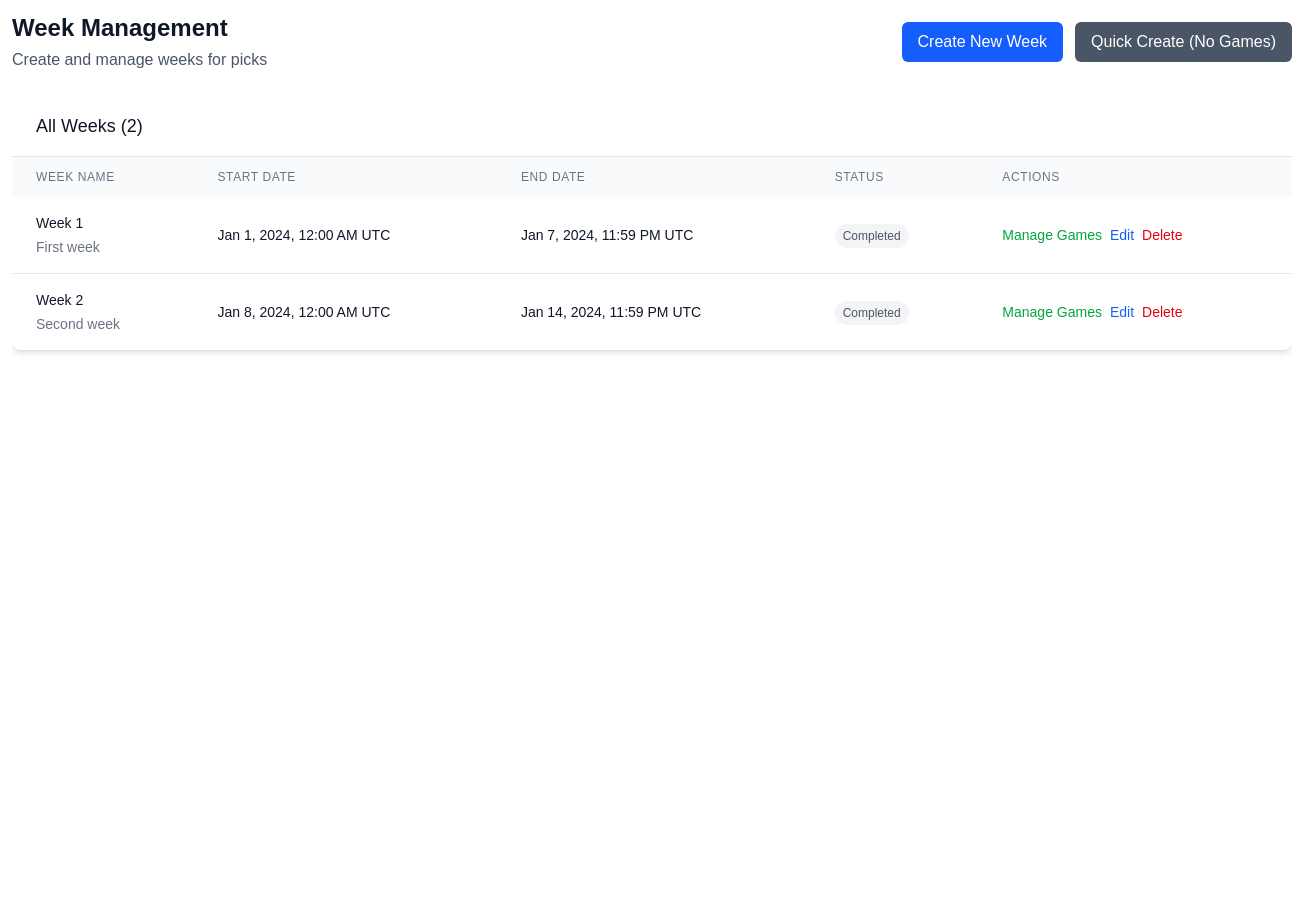
WeekManagement › should show create form when create button is clicked
Click the button "Quick Create (No Games)". click: coordinates (1184, 42)
box: [1075,22,1292,62]
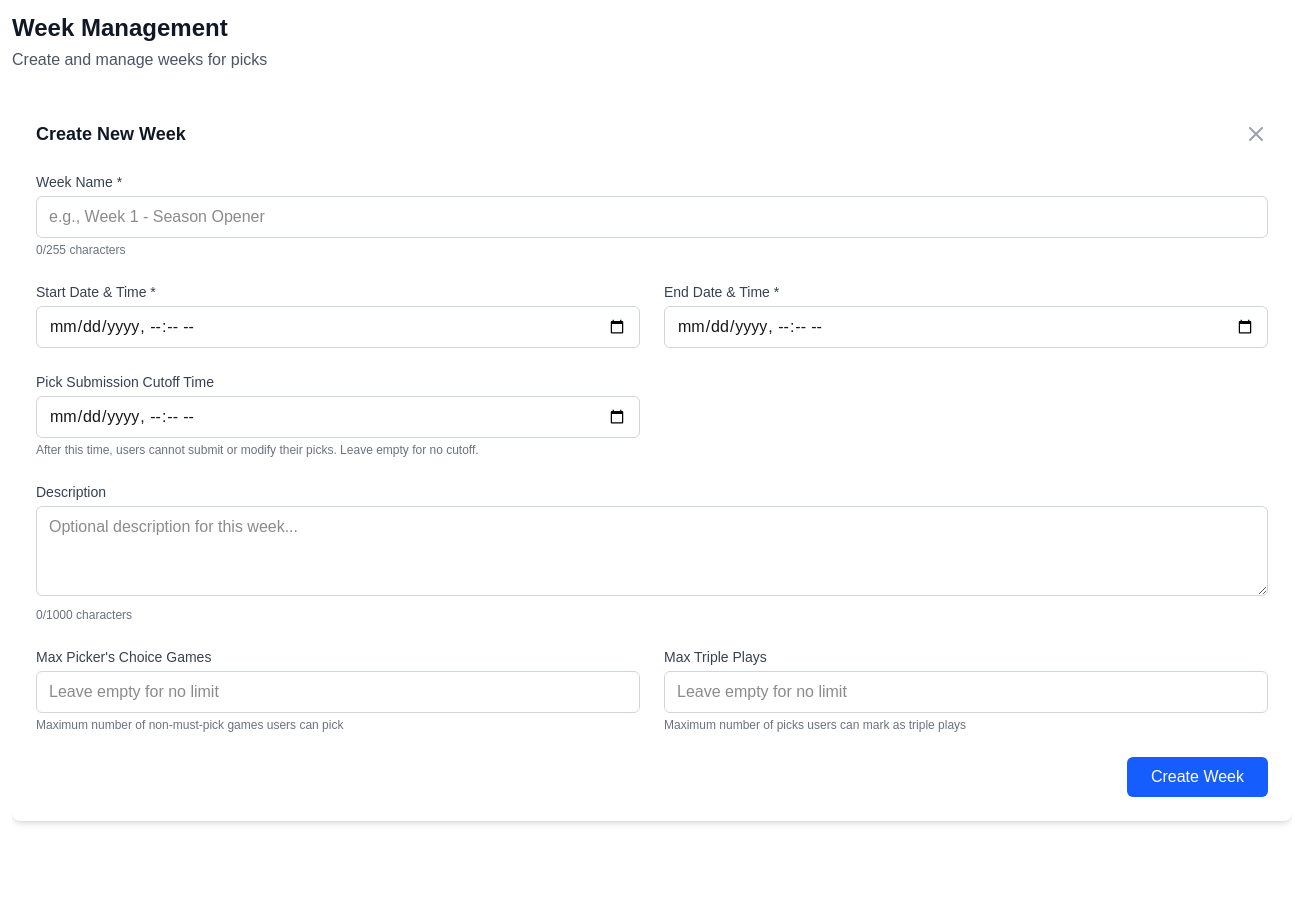
Now the form with test id "week-form" is shown
Now the heading "Create New Week" is shown, box [36,120,186,148]
Now the button "Create Week" is shown, box [1127,757,1268,797]
